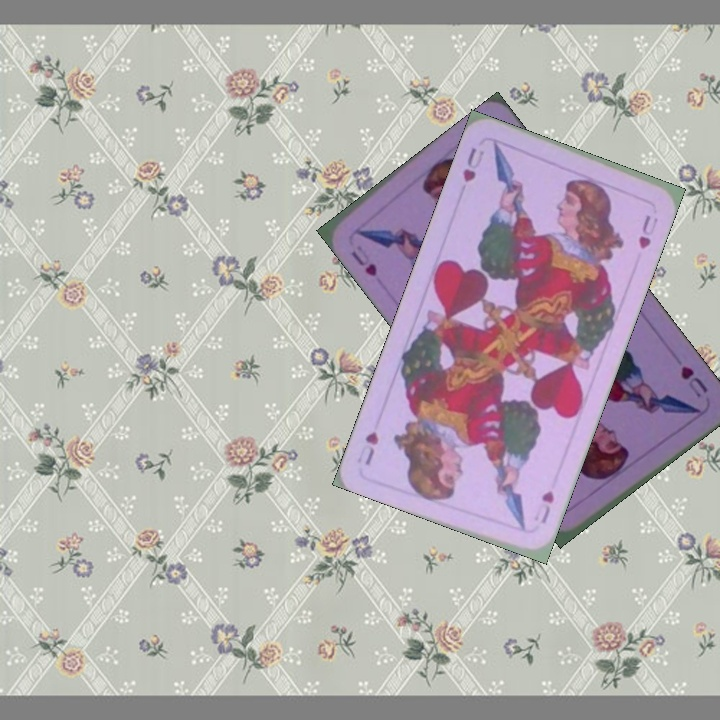HU: (676, 362, 711, 400), (458, 143, 488, 185), (347, 244, 380, 279), (530, 487, 557, 526)
